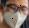with_mask: (2, 2, 29, 28)
